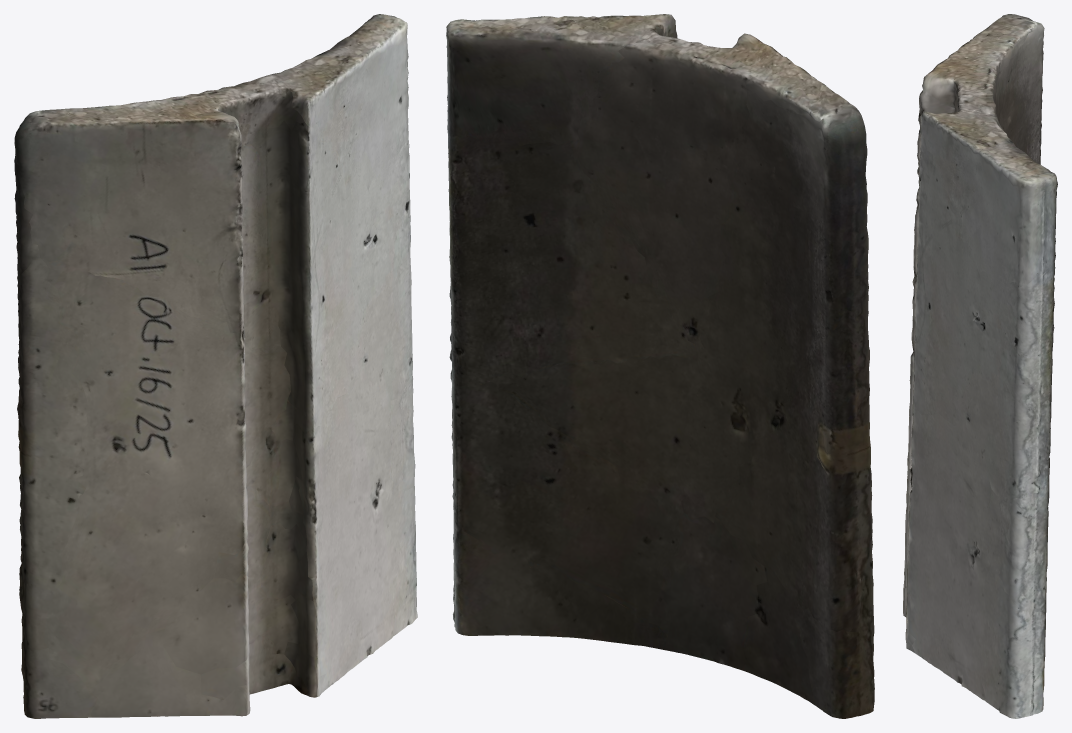
The picture shows the model from 3 angles, left to right: view 1: azimuth 30°, elevation 25°; view 2: azimuth 150°, elevation 25°; view 3: azimuth 270°, elevation 25°; orthographic projection. The views are drawn at different scales.
Visible parts, largest first — view 1: Node; view 2: Node; view 3: Node.
Boxes of the visible parts, x1,y1,x2,y2 form: Node: [14, 14, 417, 718]; Node: [446, 14, 874, 718]; Node: [903, 14, 1057, 718].
Size of the model in its own units: 0.3306 by 0.467 by 0.122.
1 material, 1 textured.
